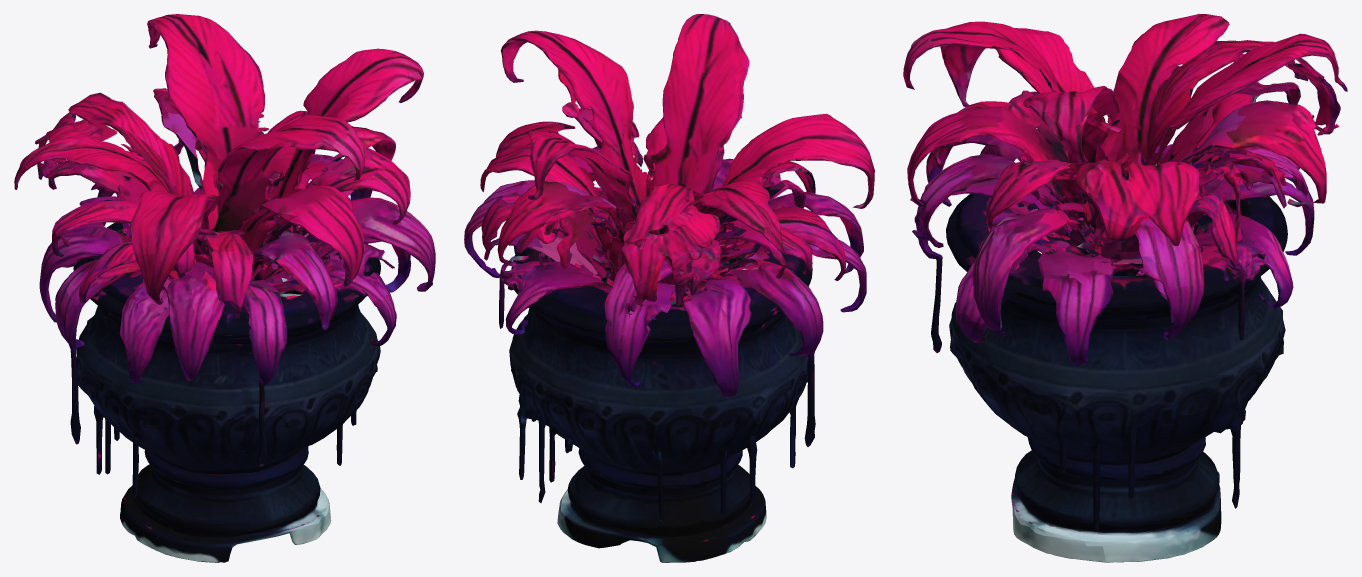
File: growth-planter-generated-2026-05-17T18-51-24-217Z.high.glb
3 renders of one model, left to right at view 1: azimuth 30°, elevation 25°; view 2: azimuth 150°, elevation 25°; view 3: azimuth 270°, elevation 25°, orthographic. The views are drawn at different scales.
Parts seen in each view (by area): view 1: temp_mesh.ply; view 2: temp_mesh.ply; view 3: temp_mesh.ply.
Part boxes in pixels (box(x1,y1,x2,y2)): temp_mesh.ply: box(14, 14, 435, 562); temp_mesh.ply: box(464, 14, 874, 562); temp_mesh.ply: box(903, 14, 1347, 562).
Bounding box in the file's own units: 1.62 × 1.97 × 1.59.
Materials: 1 (1 with a texture image).
